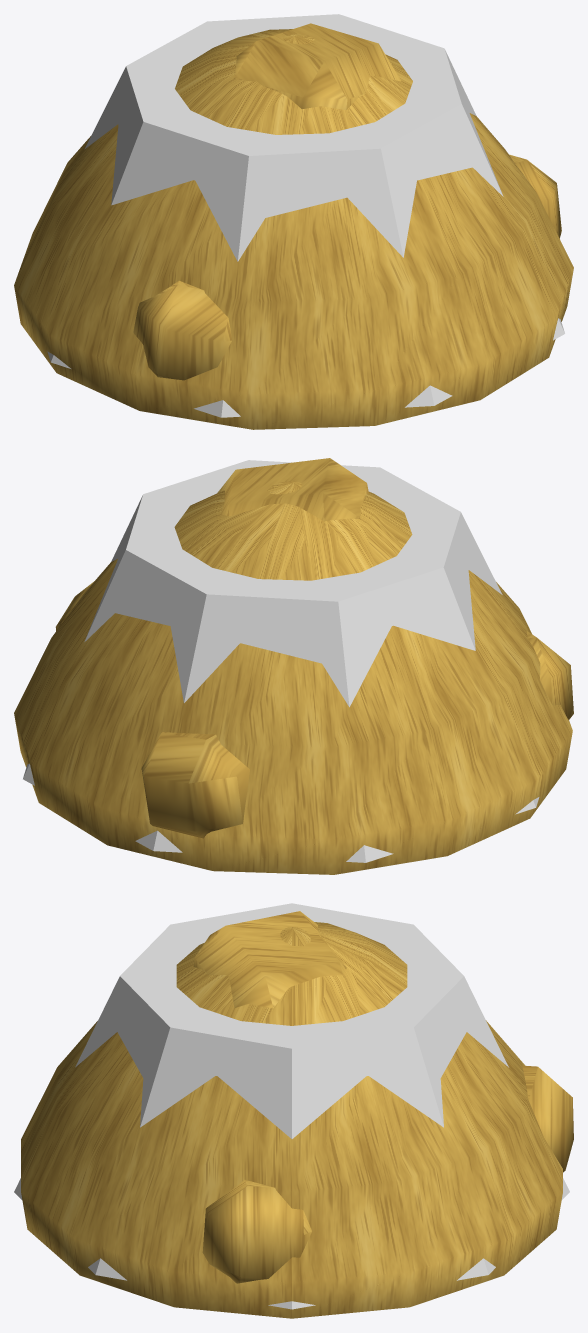
File: SM_HayPile.fbx
3 views of the same model, one above another, from view 1: azimuth 30°, elevation 25°; view 2: azimuth 150°, elevation 25°; view 3: azimuth 270°, elevation 25° (orthographic).
Parts seen in each view (by area): view 1: HayPile_Body, HayPile_Col0; view 2: HayPile_Body, HayPile_Col0; view 3: HayPile_Body, HayPile_Col0.
Boxes of the visible parts, x1,y1,x2,y2 form: HayPile_Body: (14, 23, 573, 429); HayPile_Col0: (47, 14, 564, 417); HayPile_Body: (14, 458, 573, 874); HayPile_Col0: (23, 460, 539, 862); HayPile_Body: (21, 911, 573, 1318); HayPile_Col0: (14, 903, 569, 1309).
Size of the model in its own units: 4.2 by 2.31 by 4.23.
